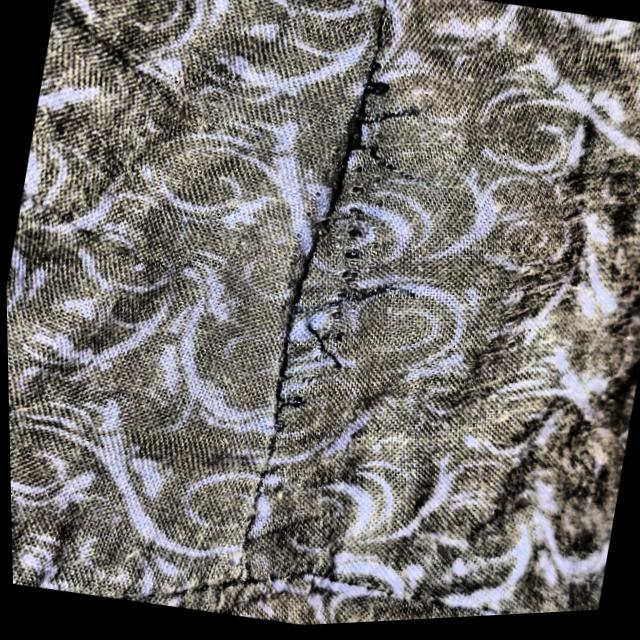seam: (157, 0, 472, 496)
